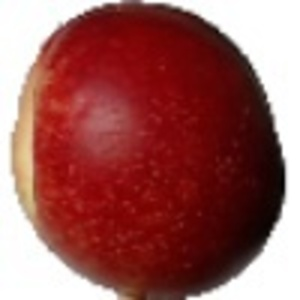nectarina: (8, 1, 284, 300)
